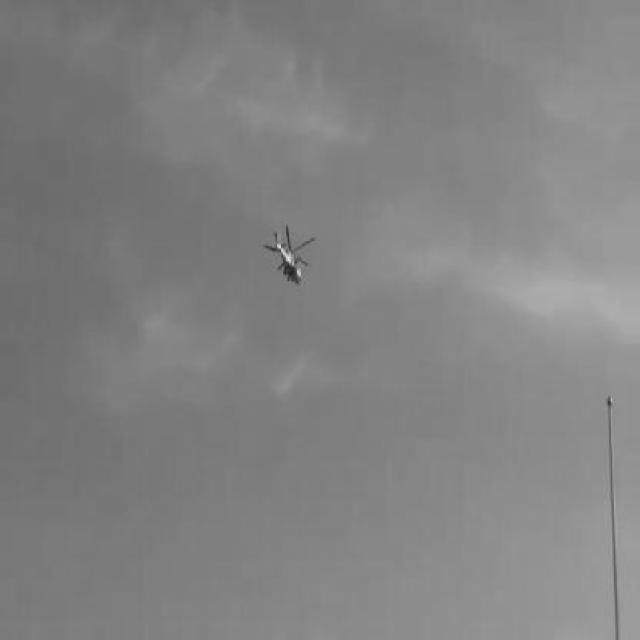helikopter: (262, 226, 316, 286)
